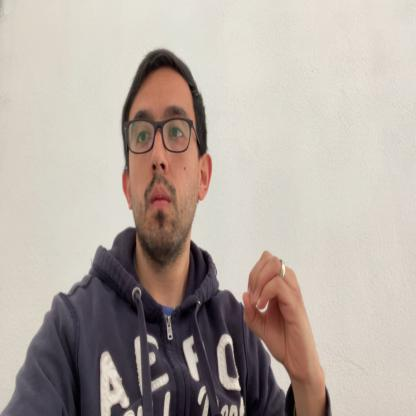O: (244, 250, 310, 382)
